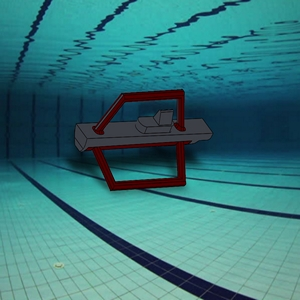submarine: (69, 75, 239, 197)
